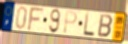0: (14, 6, 28, 31)
9: (48, 8, 62, 35)
B: (97, 13, 114, 39)
F: (26, 7, 45, 32)
L: (82, 12, 95, 38)
P: (62, 10, 78, 35)
